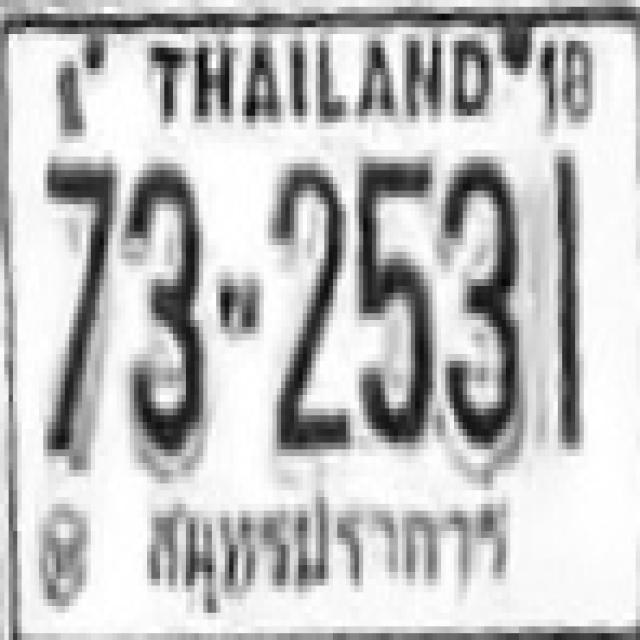1: (551, 146, 582, 446)
2: (270, 160, 344, 446)
3: (437, 150, 519, 442), (123, 157, 201, 456)
5: (355, 153, 428, 439)
7: (41, 153, 115, 460)
SPK: (135, 474, 526, 611)
